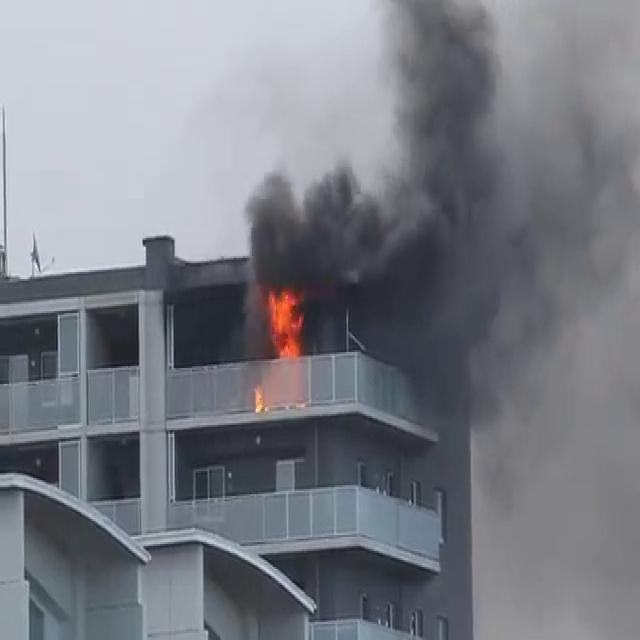Fire: (258, 276, 309, 364)
Smoke: (260, 0, 639, 459)
